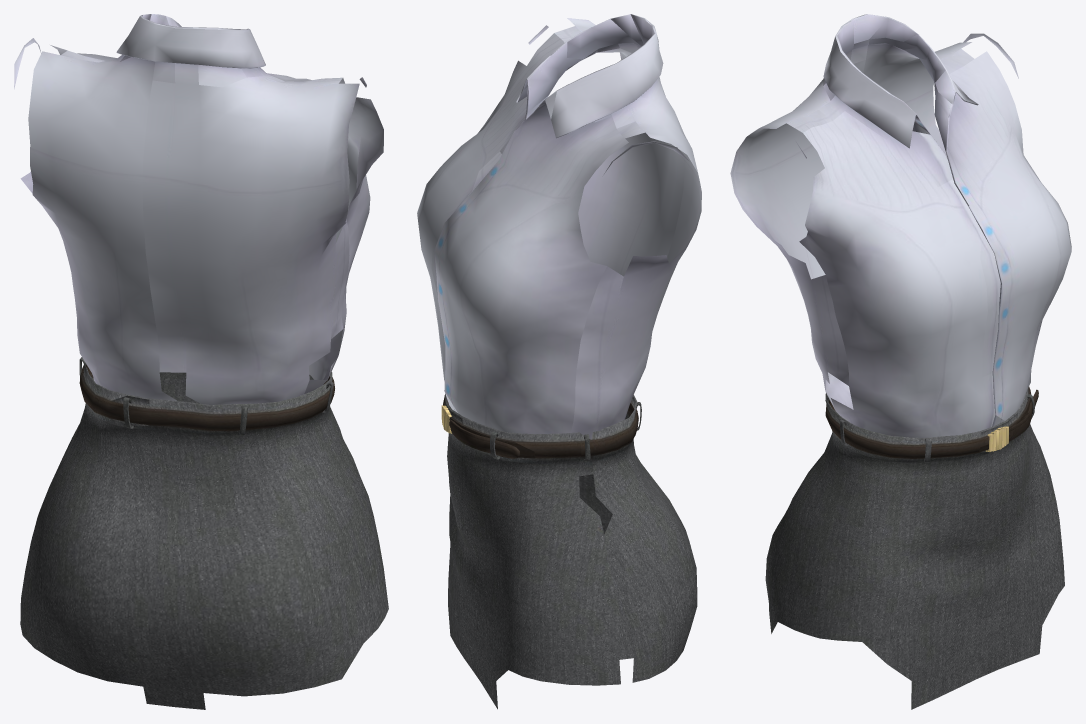
The model's file is Cuerpo.obj.
3 views of the same model, side by side, from view 1: azimuth 30°, elevation 25°; view 2: azimuth 150°, elevation 25°; view 3: azimuth 270°, elevation 25° (orthographic). The views are drawn at different scales.
Visible parts, largest first — view 1: Cuerpo; view 2: Cuerpo; view 3: Cuerpo.
Part boxes in pixels (x1,y1,x2,y2): Cuerpo: [14, 14, 388, 709]; Cuerpo: [417, 14, 701, 709]; Cuerpo: [730, 14, 1071, 709].
Size of the model in its own units: 7 by 14.61 by 7.41.
Materials: 2 (2 with a texture image).
